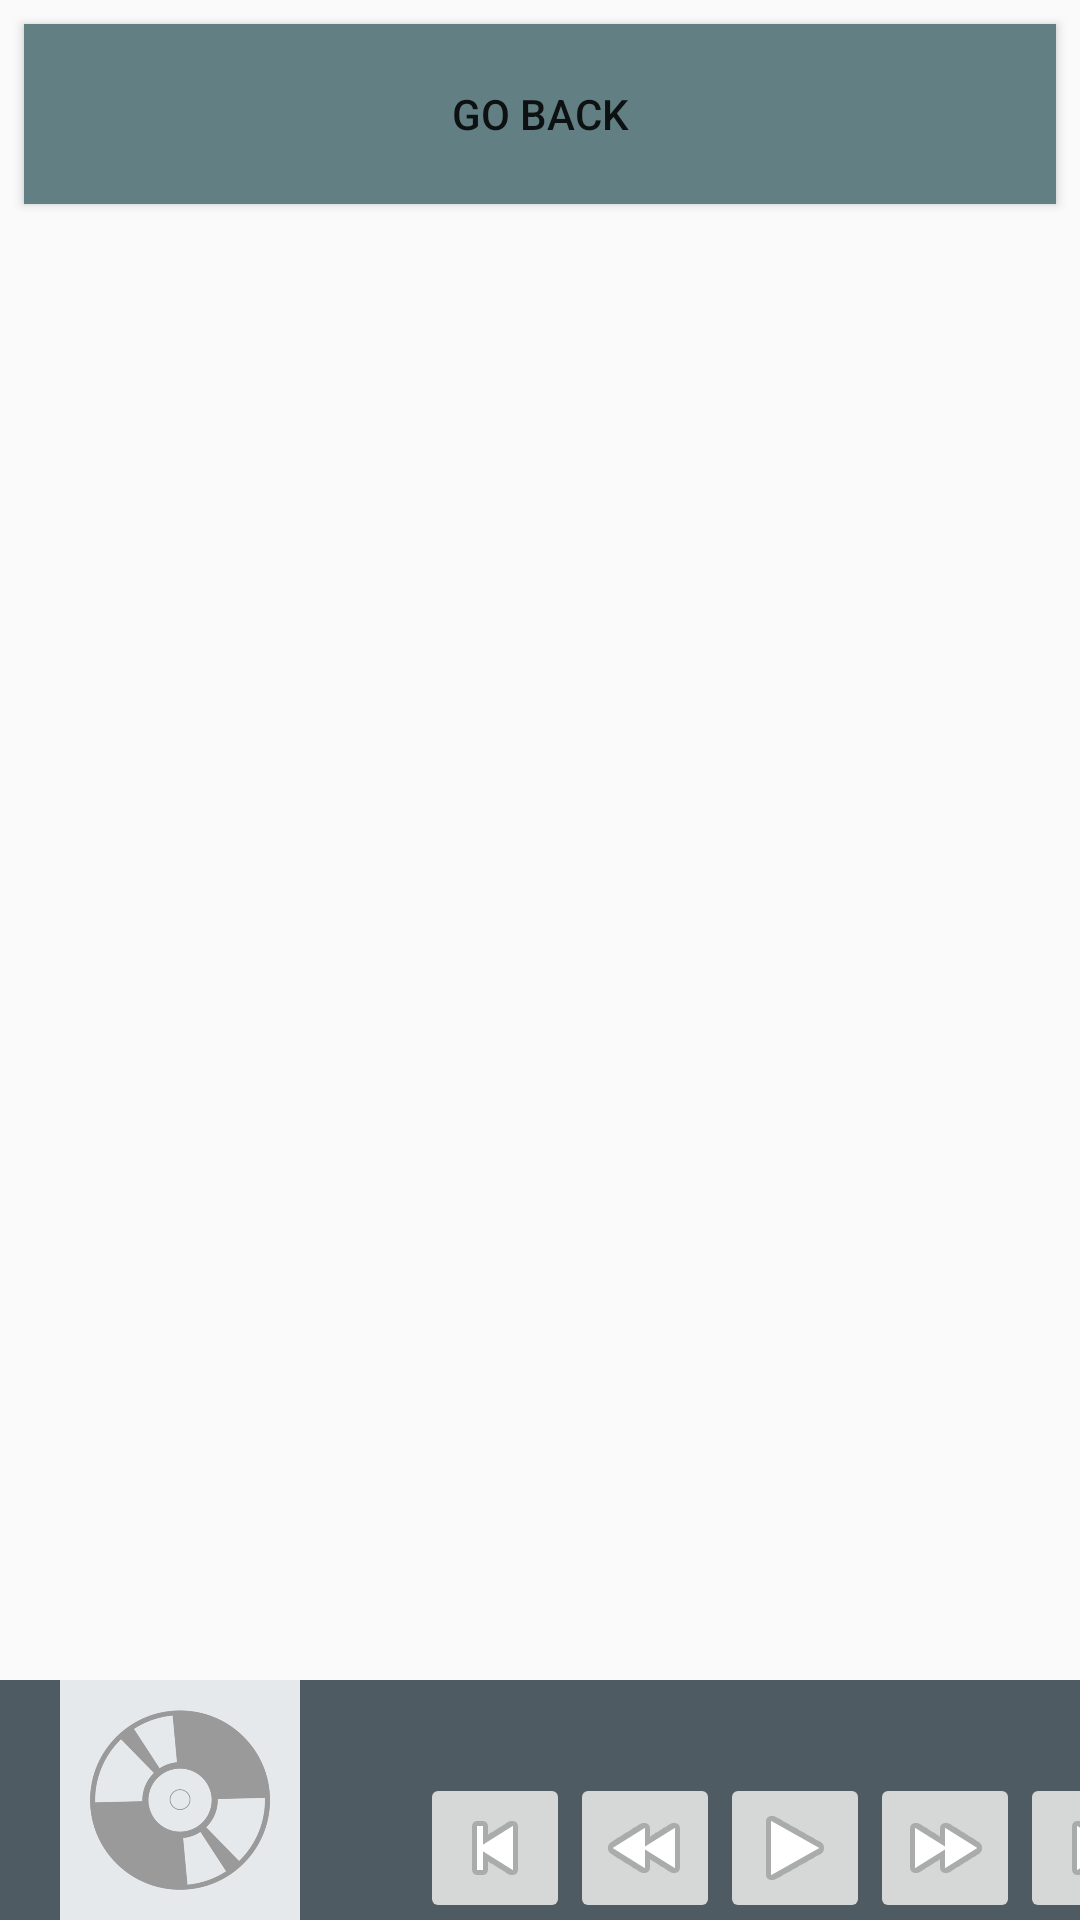

Icon bounding boxes for this 1080px×1920px phone screenshot, format BBox(x1, y1, x2, y2):
play: BBox(732, 1791, 858, 1905)
previous: BBox(432, 1791, 558, 1905)
rew: BBox(582, 1791, 708, 1905)
